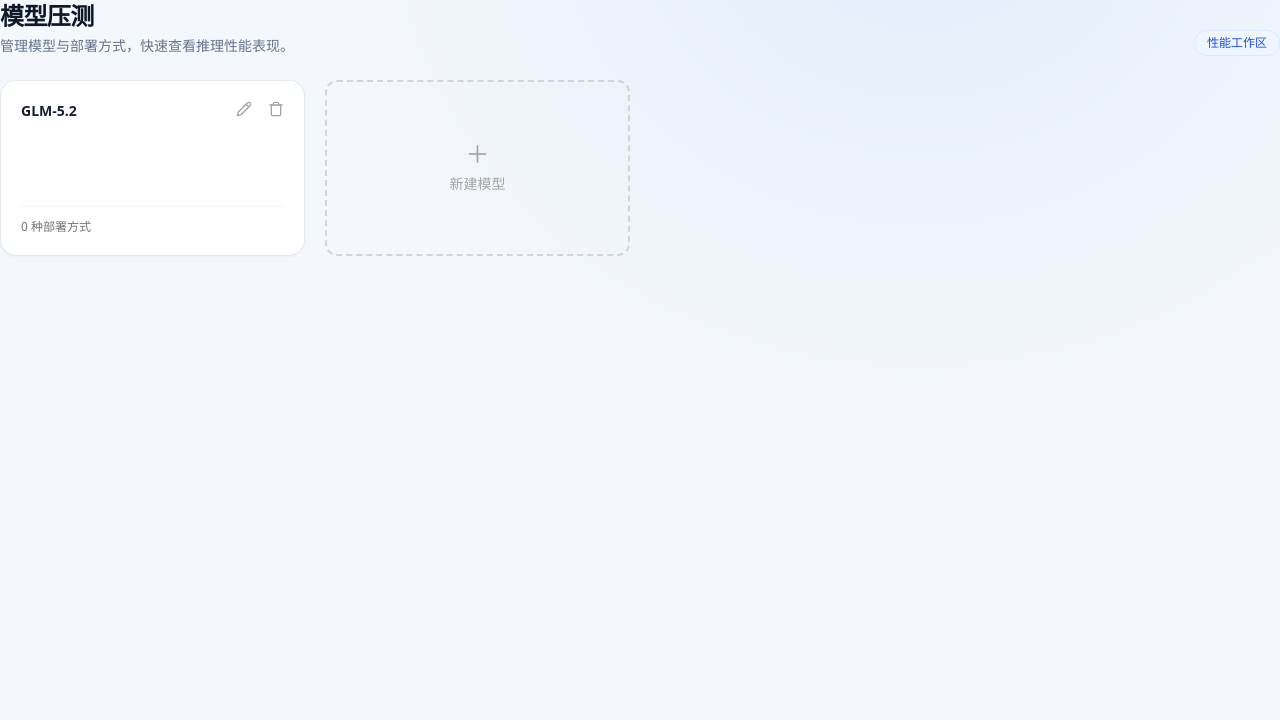
editing a model from its card renames it
Step 1. Click the button named "编辑 GLM-5.2" → (244, 109), box [230,95,258,123]
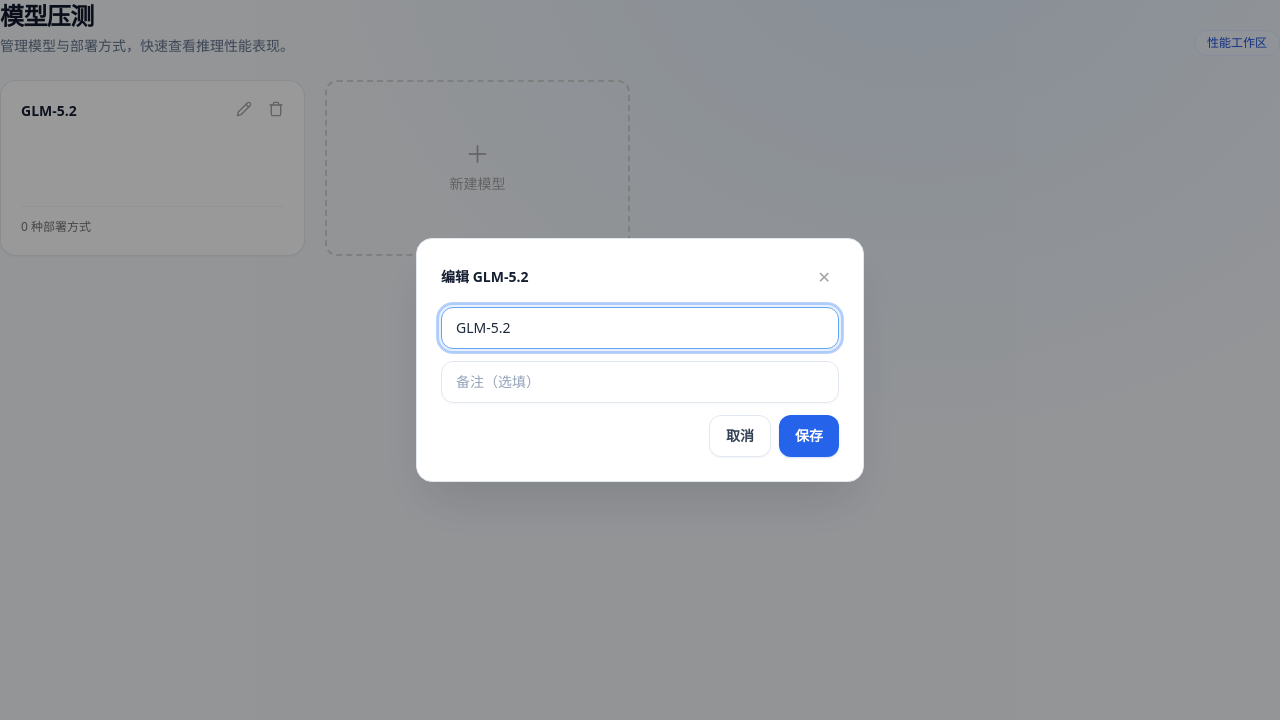
Step 2. Replace the text in the field named "模型名称" with "GLM-6" → (640, 328), box [441,307,839,349]
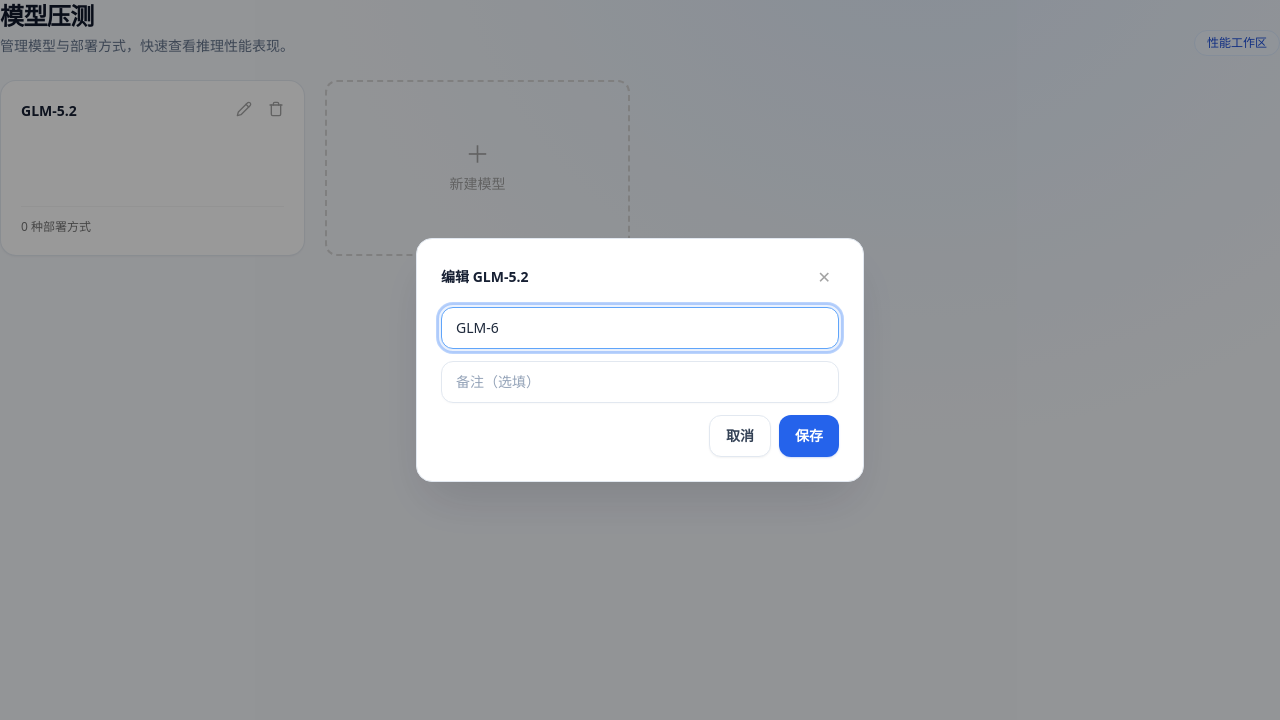
Step 3. Click the button "保存" → (809, 436), box [779,415,839,457]
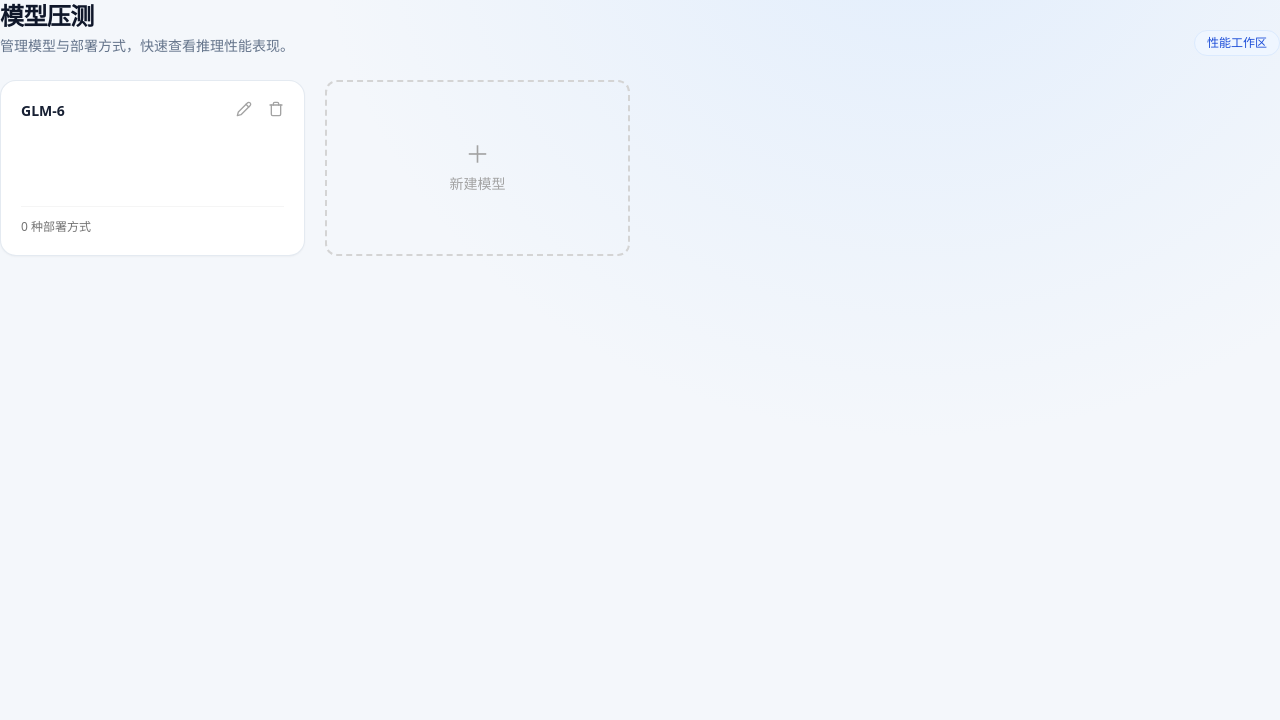
Expected: the link "GLM-6" is shown, [21,101,65,120]
Expected: the link "GLM-5.2" is gone
